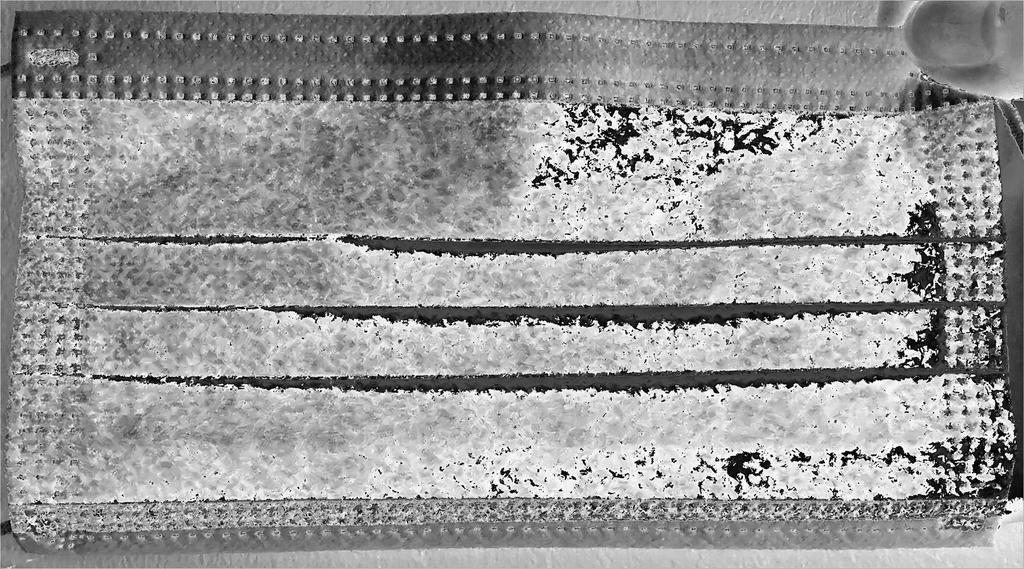High GSM: (308, 104, 943, 494)
